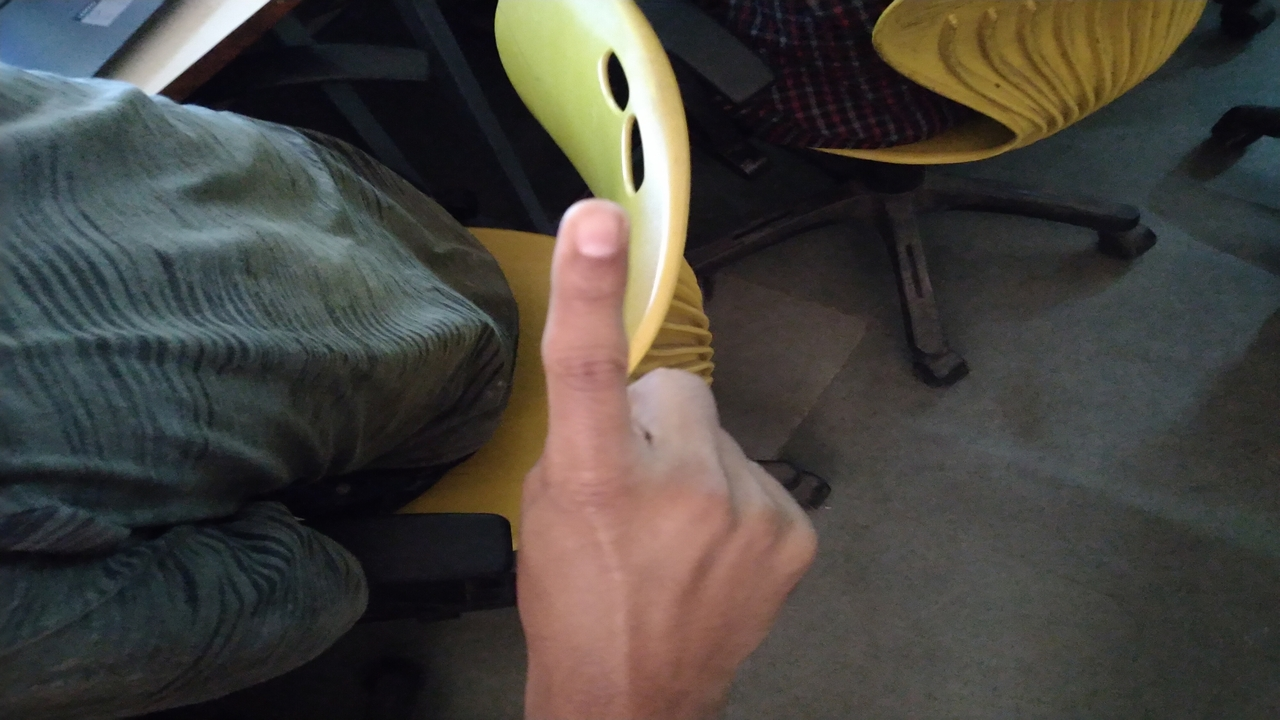fingertip: (548, 190, 626, 268)
